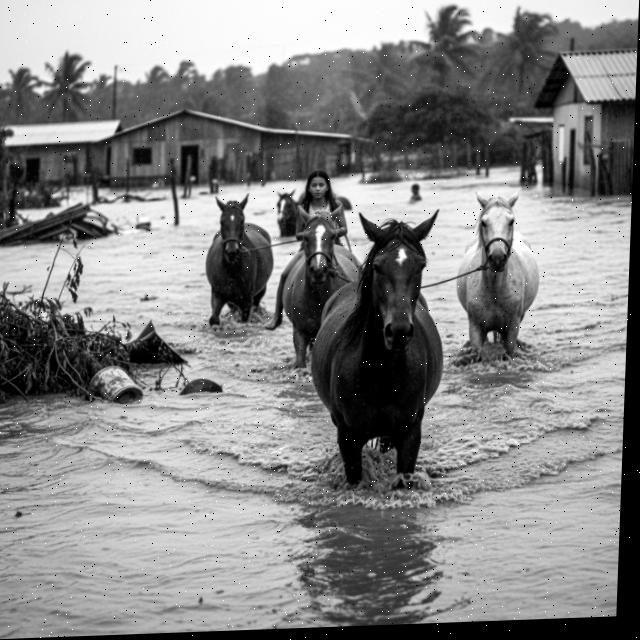civilian: (266, 168, 352, 337), (403, 178, 427, 207)
horse: (305, 216, 454, 486), (448, 184, 550, 359), (273, 203, 367, 370), (196, 190, 279, 333), (273, 186, 309, 239)
